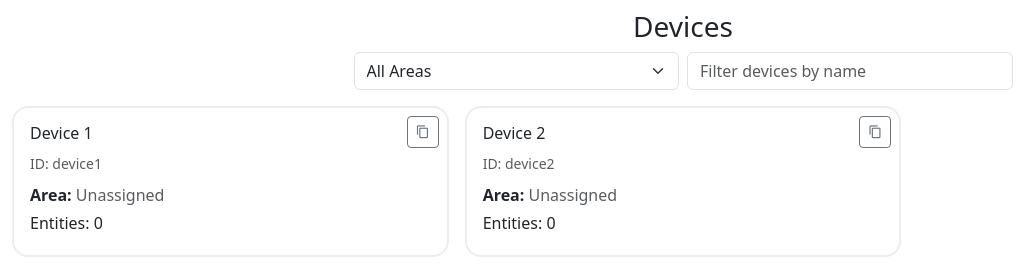
Test: DevicesView.vue › clears search text when clear button is clicked
Step 1. Type "Device 1" into the field with placeholder "Filter devices by name" → (850, 71), box [687, 52, 1012, 90]
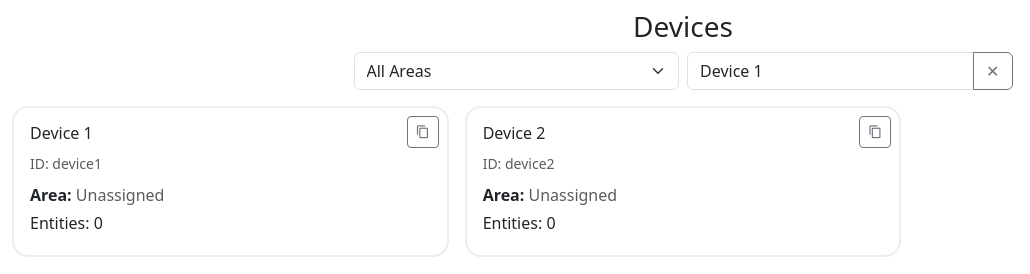
Step 2. Click the button named "Clear device search" → (993, 71), box [973, 52, 1012, 90]
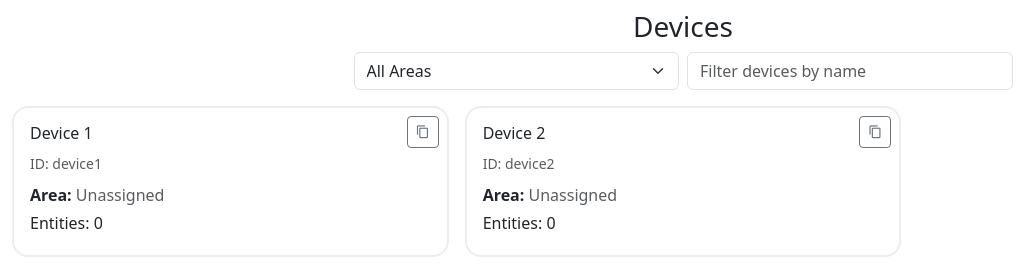
Now the field with placeholder "Filter devices by name" is empty, box [687, 52, 1012, 90]
